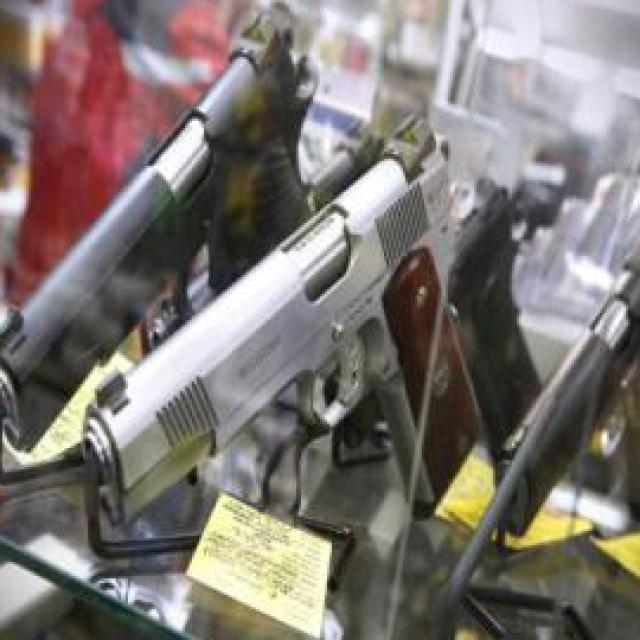pistol: (79, 111, 524, 530), (0, 2, 334, 446), (436, 197, 640, 609)
